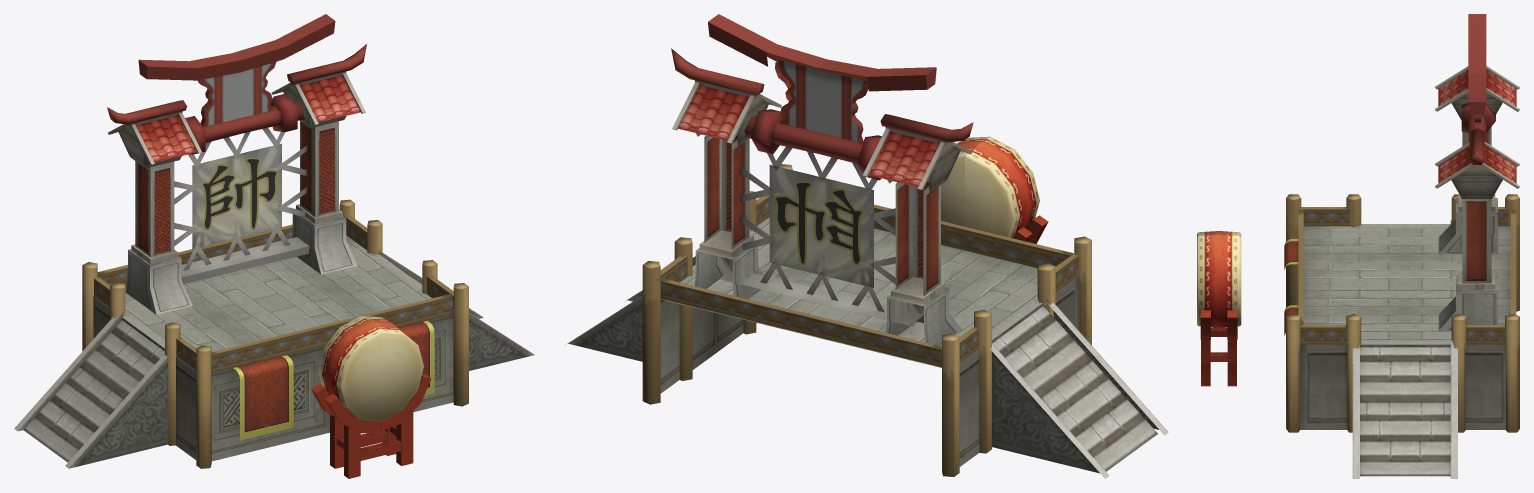
The model's file is 3k_map_drum.FBX.
The picture shows the model from 3 angles, left to right: view 1: azimuth 30°, elevation 25°; view 2: azimuth 150°, elevation 25°; view 3: azimuth 270°, elevation 25°; orthographic projection. The views are drawn at different scales.
Visible parts, largest first — view 1: 3k_map_drum; view 2: 3k_map_drum; view 3: 3k_map_drum.
Boxes of the visible parts, x1,y1,x2,y2 form: 3k_map_drum: (14, 14, 534, 478); 3k_map_drum: (564, 14, 1168, 478); 3k_map_drum: (1197, 14, 1519, 478).
Bounding box in the file's own units: 2452 × 1637 × 1530.
